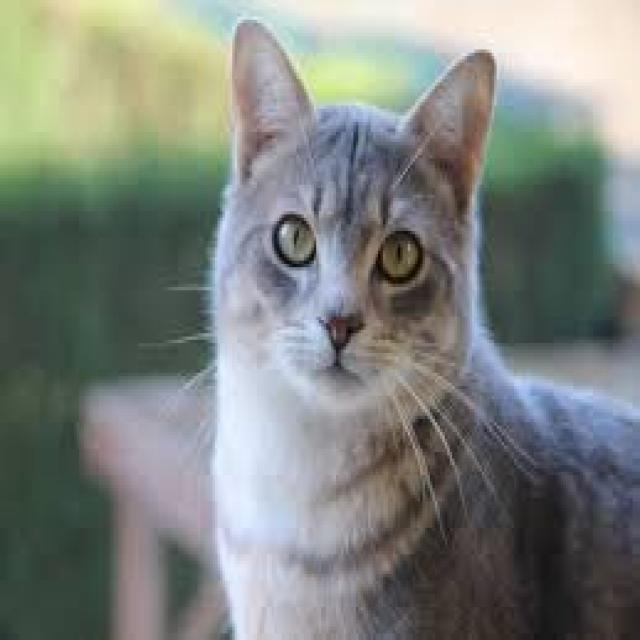Cat: (205, 13, 638, 640)
